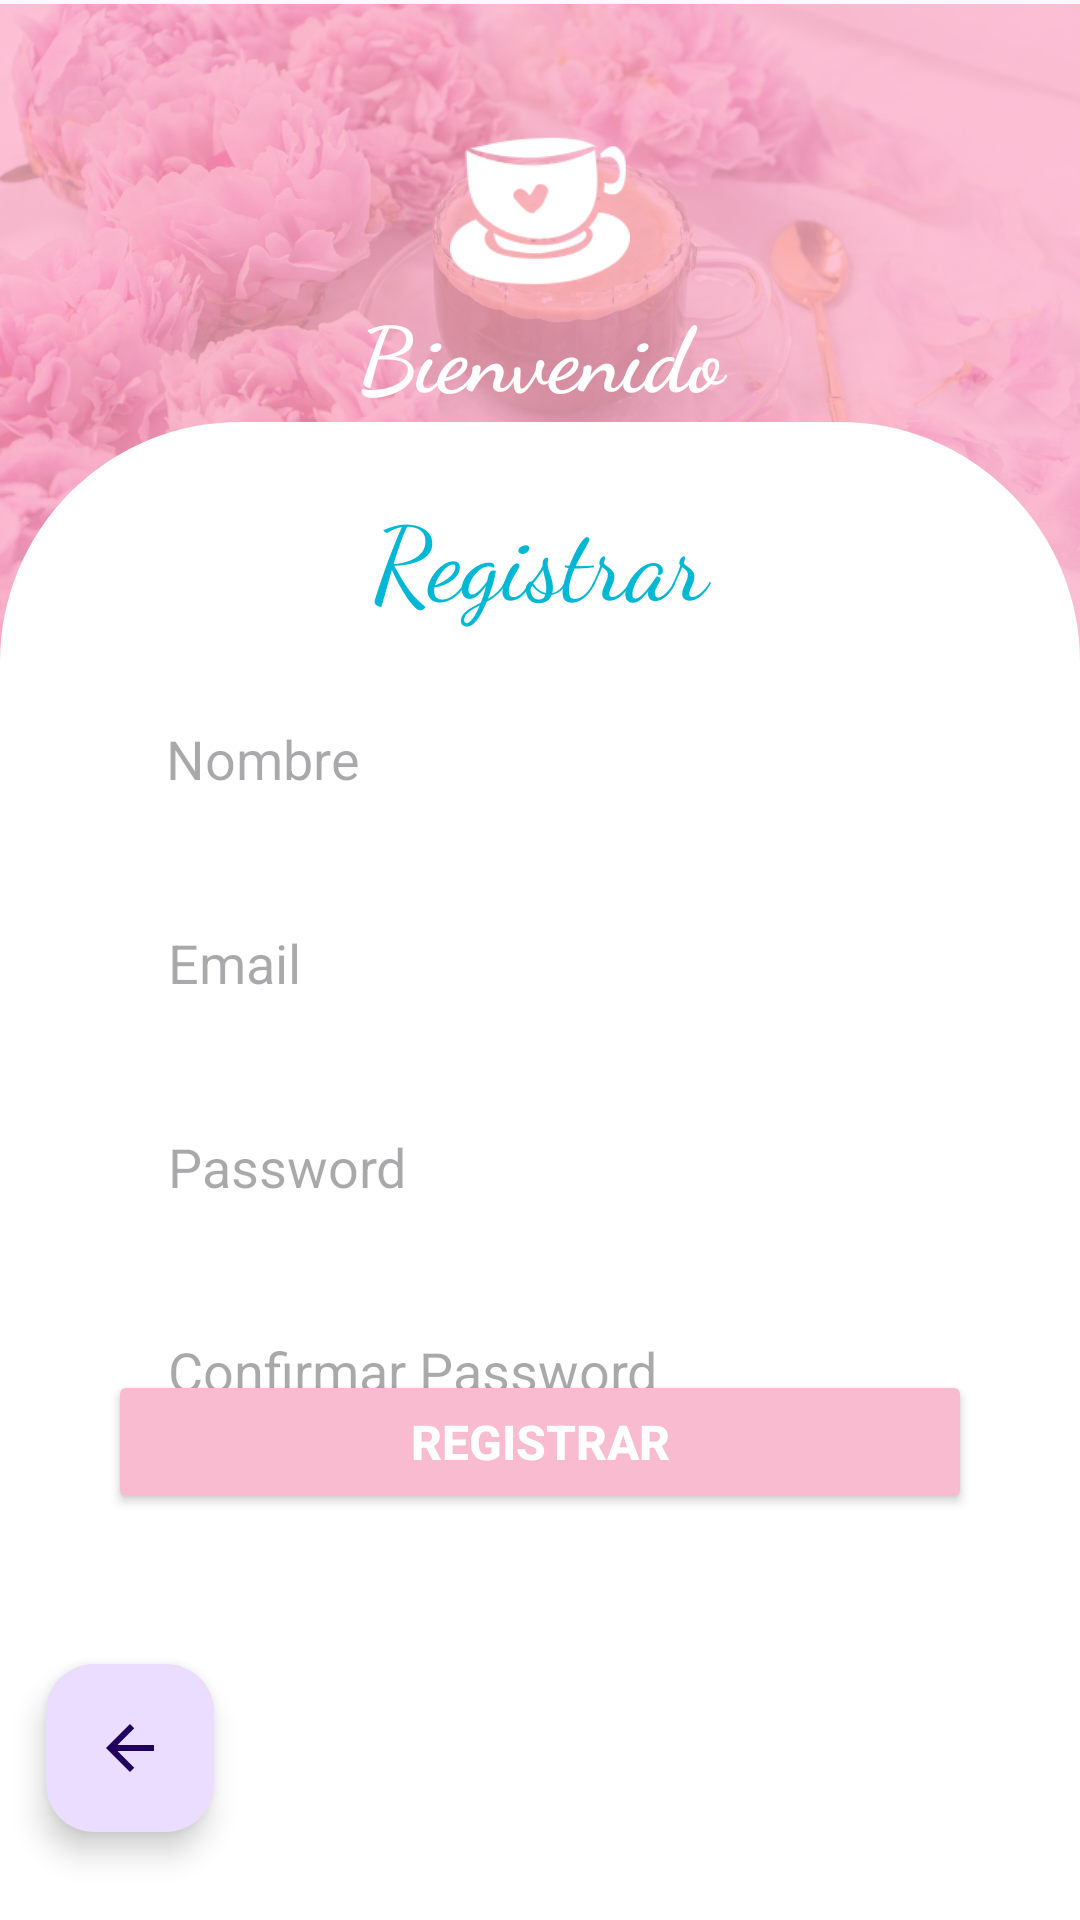

Point at icon controls on the screen. Image size 1080px x 1920px, points as (x=x, y=y).
atras: (x=130, y=1748)
